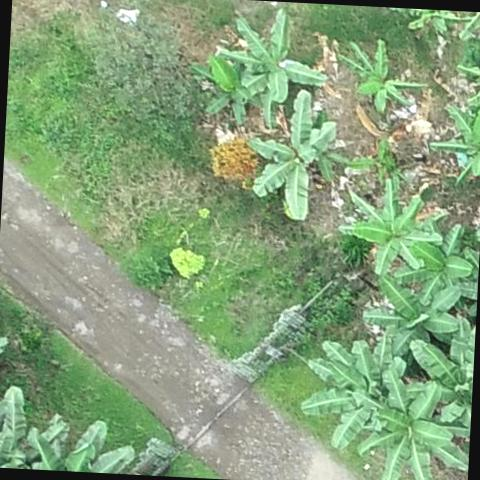Banana-plant: (245, 88, 341, 221), (302, 338, 407, 448), (351, 379, 465, 480), (340, 178, 442, 278), (217, 9, 321, 99), (361, 271, 460, 358), (406, 323, 476, 432), (339, 37, 429, 115), (401, 222, 472, 297), (425, 101, 480, 187)
